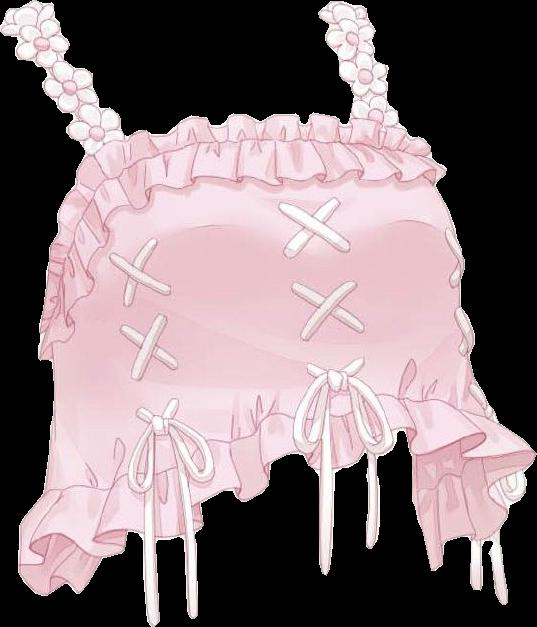Bodice: (0, 0, 535, 626)
Neckline: (43, 391, 495, 494), (45, 3, 359, 139)
Waistline: (18, 425, 536, 570)
